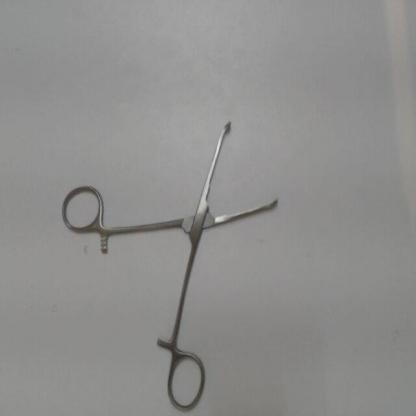Allis Tissue Forceps: (57, 114, 286, 414)
